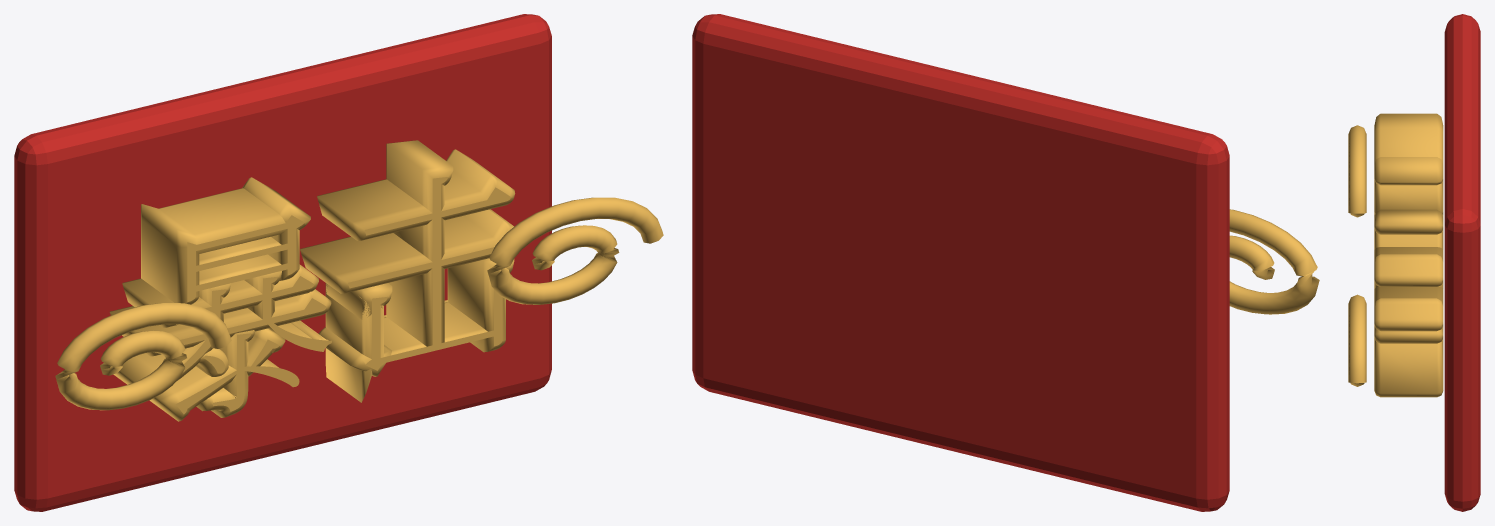
File: word-critical.glb
3 views of the same model, side by side, from view 1: azimuth 30°, elevation 25°; view 2: azimuth 150°, elevation 25°; view 3: azimuth 270°, elevation 25° (orthographic). The views are drawn at different scales.
Visible parts, largest first — view 1: word-critical; view 2: word-critical; view 3: word-critical.
Boxes of the visible parts, <box> form: word-critical: <box>14,14,663,511</box>; word-critical: <box>692,14,1319,511</box>; word-critical: <box>1348,14,1480,511</box>.
Size of the model in its own units: 1.1 by 0.6479 by 0.258.
